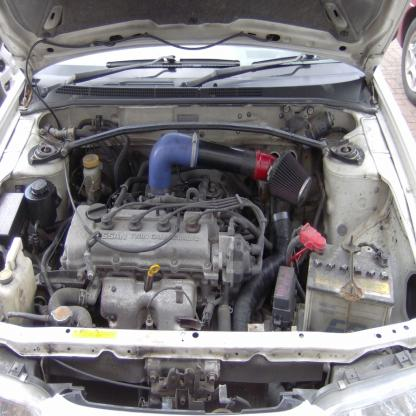Car: (1, 1, 416, 416), (395, 1, 416, 107)
